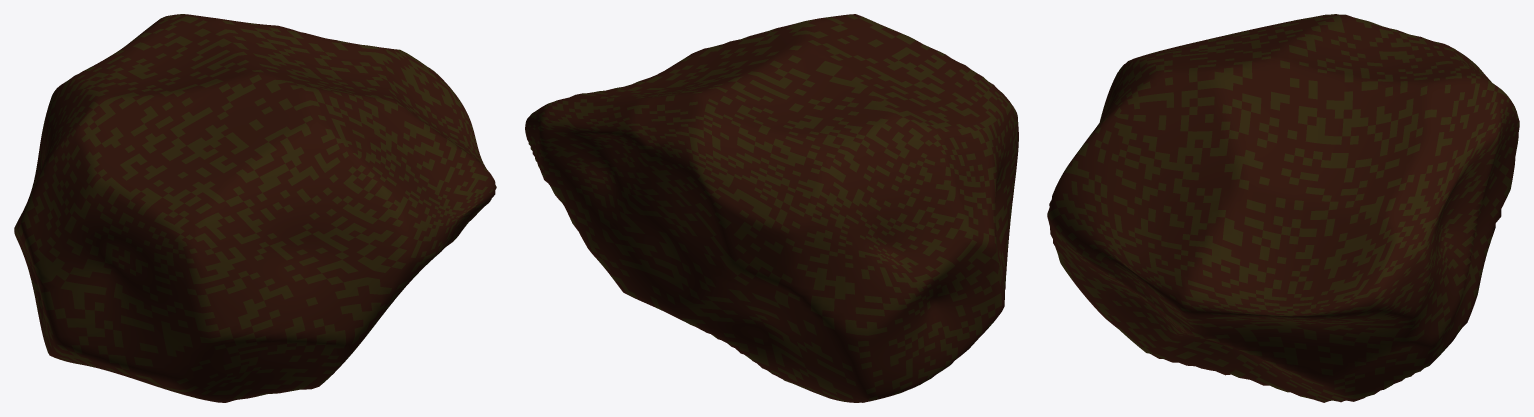
The model's file is rockAsteroid 2 tone 3.fbx.
3 renders of one model, left to right at view 1: azimuth 30°, elevation 25°; view 2: azimuth 150°, elevation 25°; view 3: azimuth 270°, elevation 25°, orthographic. The views are drawn at different scales.
Visible parts, largest first — view 1: Cube.004; view 2: Cube.004; view 3: Cube.004.
Part boxes in pixels (left/top/right/bottom): Cube.004: left=14, top=14, right=496, bottom=402; Cube.004: left=525, top=14, right=1018, bottom=402; Cube.004: left=1047, top=14, right=1519, bottom=402.
Size of the model in its own units: 347 by 226 by 294.
